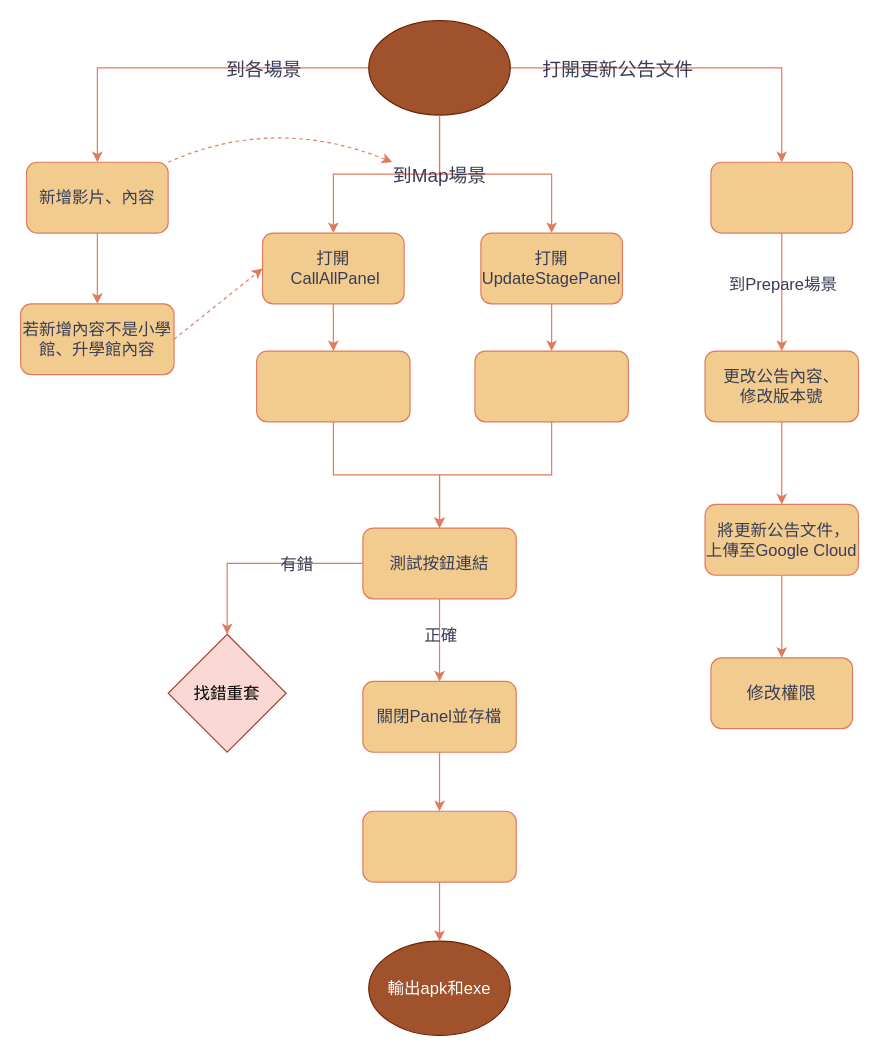
The diagram is 879 pixels wide and 1056 high, and some of its shapes have lost their labels. The shapes that lost their labels are listed below. From the top down, each one's box as (x1, y1, x2, y2) in pixels, then its label:
(368, 19, 510, 115): 拿到要更新的影片、內容
(710, 161, 853, 233): 編輯更新公告內容
(255, 350, 410, 422): 新增更新內容的按鈕到相對應Panel中
(474, 350, 628, 422): 新增更新內容的按鈕、修改版本號
(362, 810, 516, 882): 修改版本號
